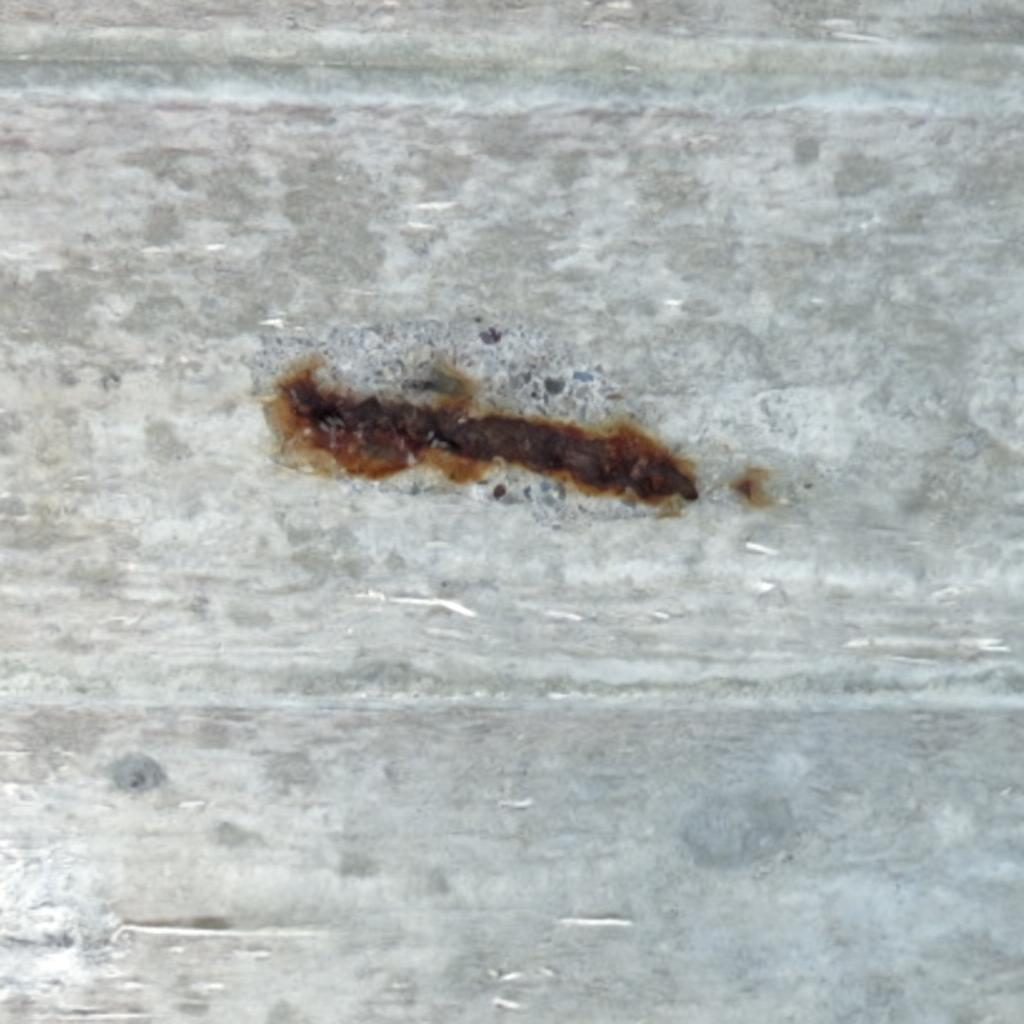exposed_rebar: (266, 358, 698, 504)
spalling: (258, 320, 810, 547)
